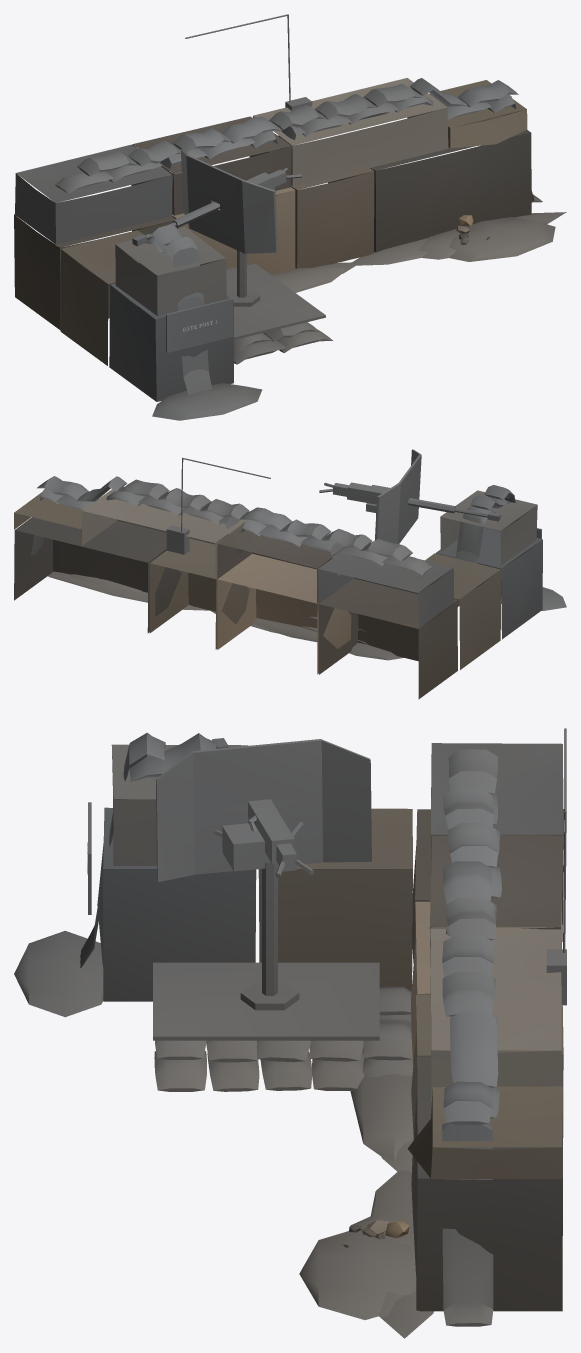
File: WL_GateBastionS_LOD1.glb
3 renders of one model, top to bottom at view 1: azimuth 30°, elevation 25°; view 2: azimuth 150°, elevation 25°; view 3: azimuth 270°, elevation 25°, orthographic. The views are drawn at different scales.
Parts seen in each view (by area): view 1: WL_GateBastionS_Masonry_LOD1, WL_GateBastionS_Canvas_LOD1, WL_GateBastionS_Metal_LOD1, WL_GateBastionS_Sand_LOD1; view 2: WL_GateBastionS_Masonry_LOD1, WL_GateBastionS_Canvas_LOD1, WL_GateBastionS_Metal_LOD1, WL_GateBastionS_Sand_LOD1; view 3: WL_GateBastionS_Masonry_LOD1, WL_GateBastionS_Metal_LOD1, WL_GateBastionS_Canvas_LOD1, WL_GateBastionS_Sand_LOD1, WL_GateBastionS_Rubble_LOD1.
Part boxes in pixels (<box>): WL_GateBastionS_Masonry_LOD1: <box>14,78,531,401</box>; WL_GateBastionS_Canvas_LOD1: <box>55,78,542,394</box>; WL_GateBastionS_Metal_LOD1: <box>132,14,325,352</box>; WL_GateBastionS_Sand_LOD1: <box>152,212,566,420</box>; WL_GateBastionS_Masonry_LOD1: <box>14,489,542,699</box>; WL_GateBastionS_Canvas_LOD1: <box>30,476,521,644</box>; WL_GateBastionS_Metal_LOD1: <box>166,449,541,554</box>; WL_GateBastionS_Sand_LOD1: <box>48,571,566,660</box>; WL_GateBastionS_Masonry_LOD1: <box>97,743,564,1311</box>; WL_GateBastionS_Metal_LOD1: <box>88,728,566,1040</box>; WL_GateBastionS_Canvas_LOD1: <box>80,732,501,1326</box>; WL_GateBastionS_Sand_LOD1: <box>14,931,433,1338</box>; WL_GateBastionS_Rubble_LOD1: <box>343,1220,409,1247</box>.
Bounding box in the file's own units: 6.6 × 2.65 × 3.78.
